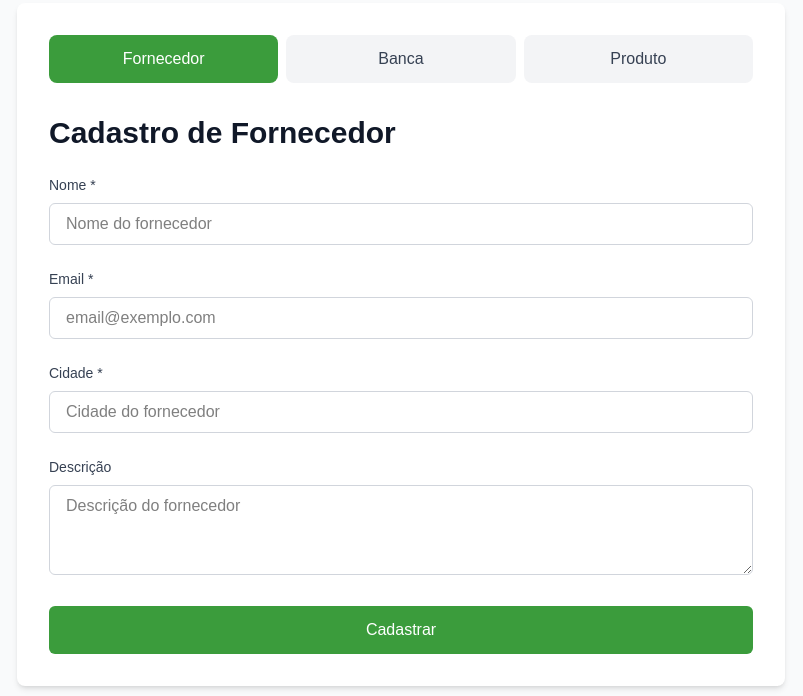
Scenario: FormCadastro - Testes Completos › Renderização Inicial › deve exibir título correto para cada tipo de cadastro
Expected: the heading "Cadastro de Fornecedor" is shown, [49, 116, 396, 149]
// Simular clique na aba Banca
Click the button "Banca": (401, 59) [286, 35, 516, 83]
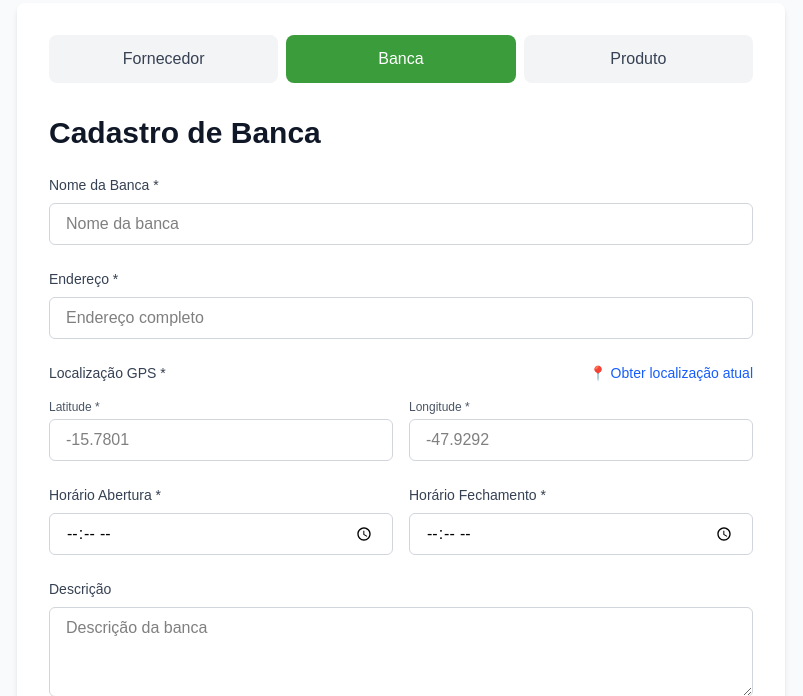
Result: the heading "Cadastro de Banca" is shown at [49, 116, 321, 149]
// Simular clique na aba Produto
Click the button "Produto": (638, 59) [524, 35, 753, 83]
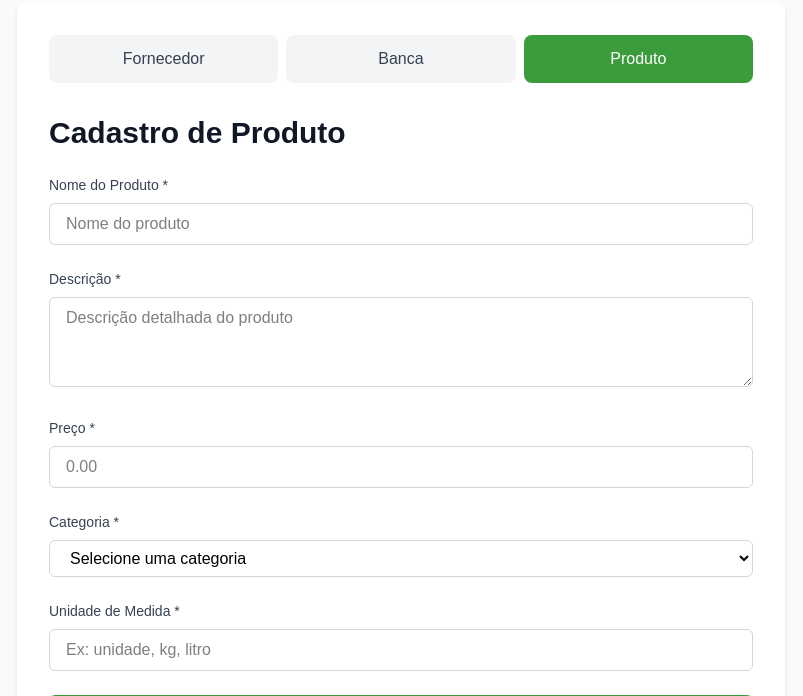
Result: the heading "Cadastro de Produto" is shown at [49, 116, 346, 149]
